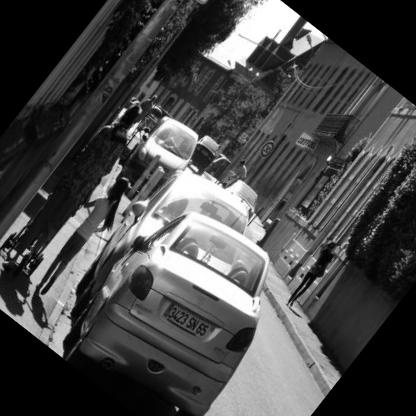bus: (53, 194, 314, 416)
car: (127, 101, 213, 188)
